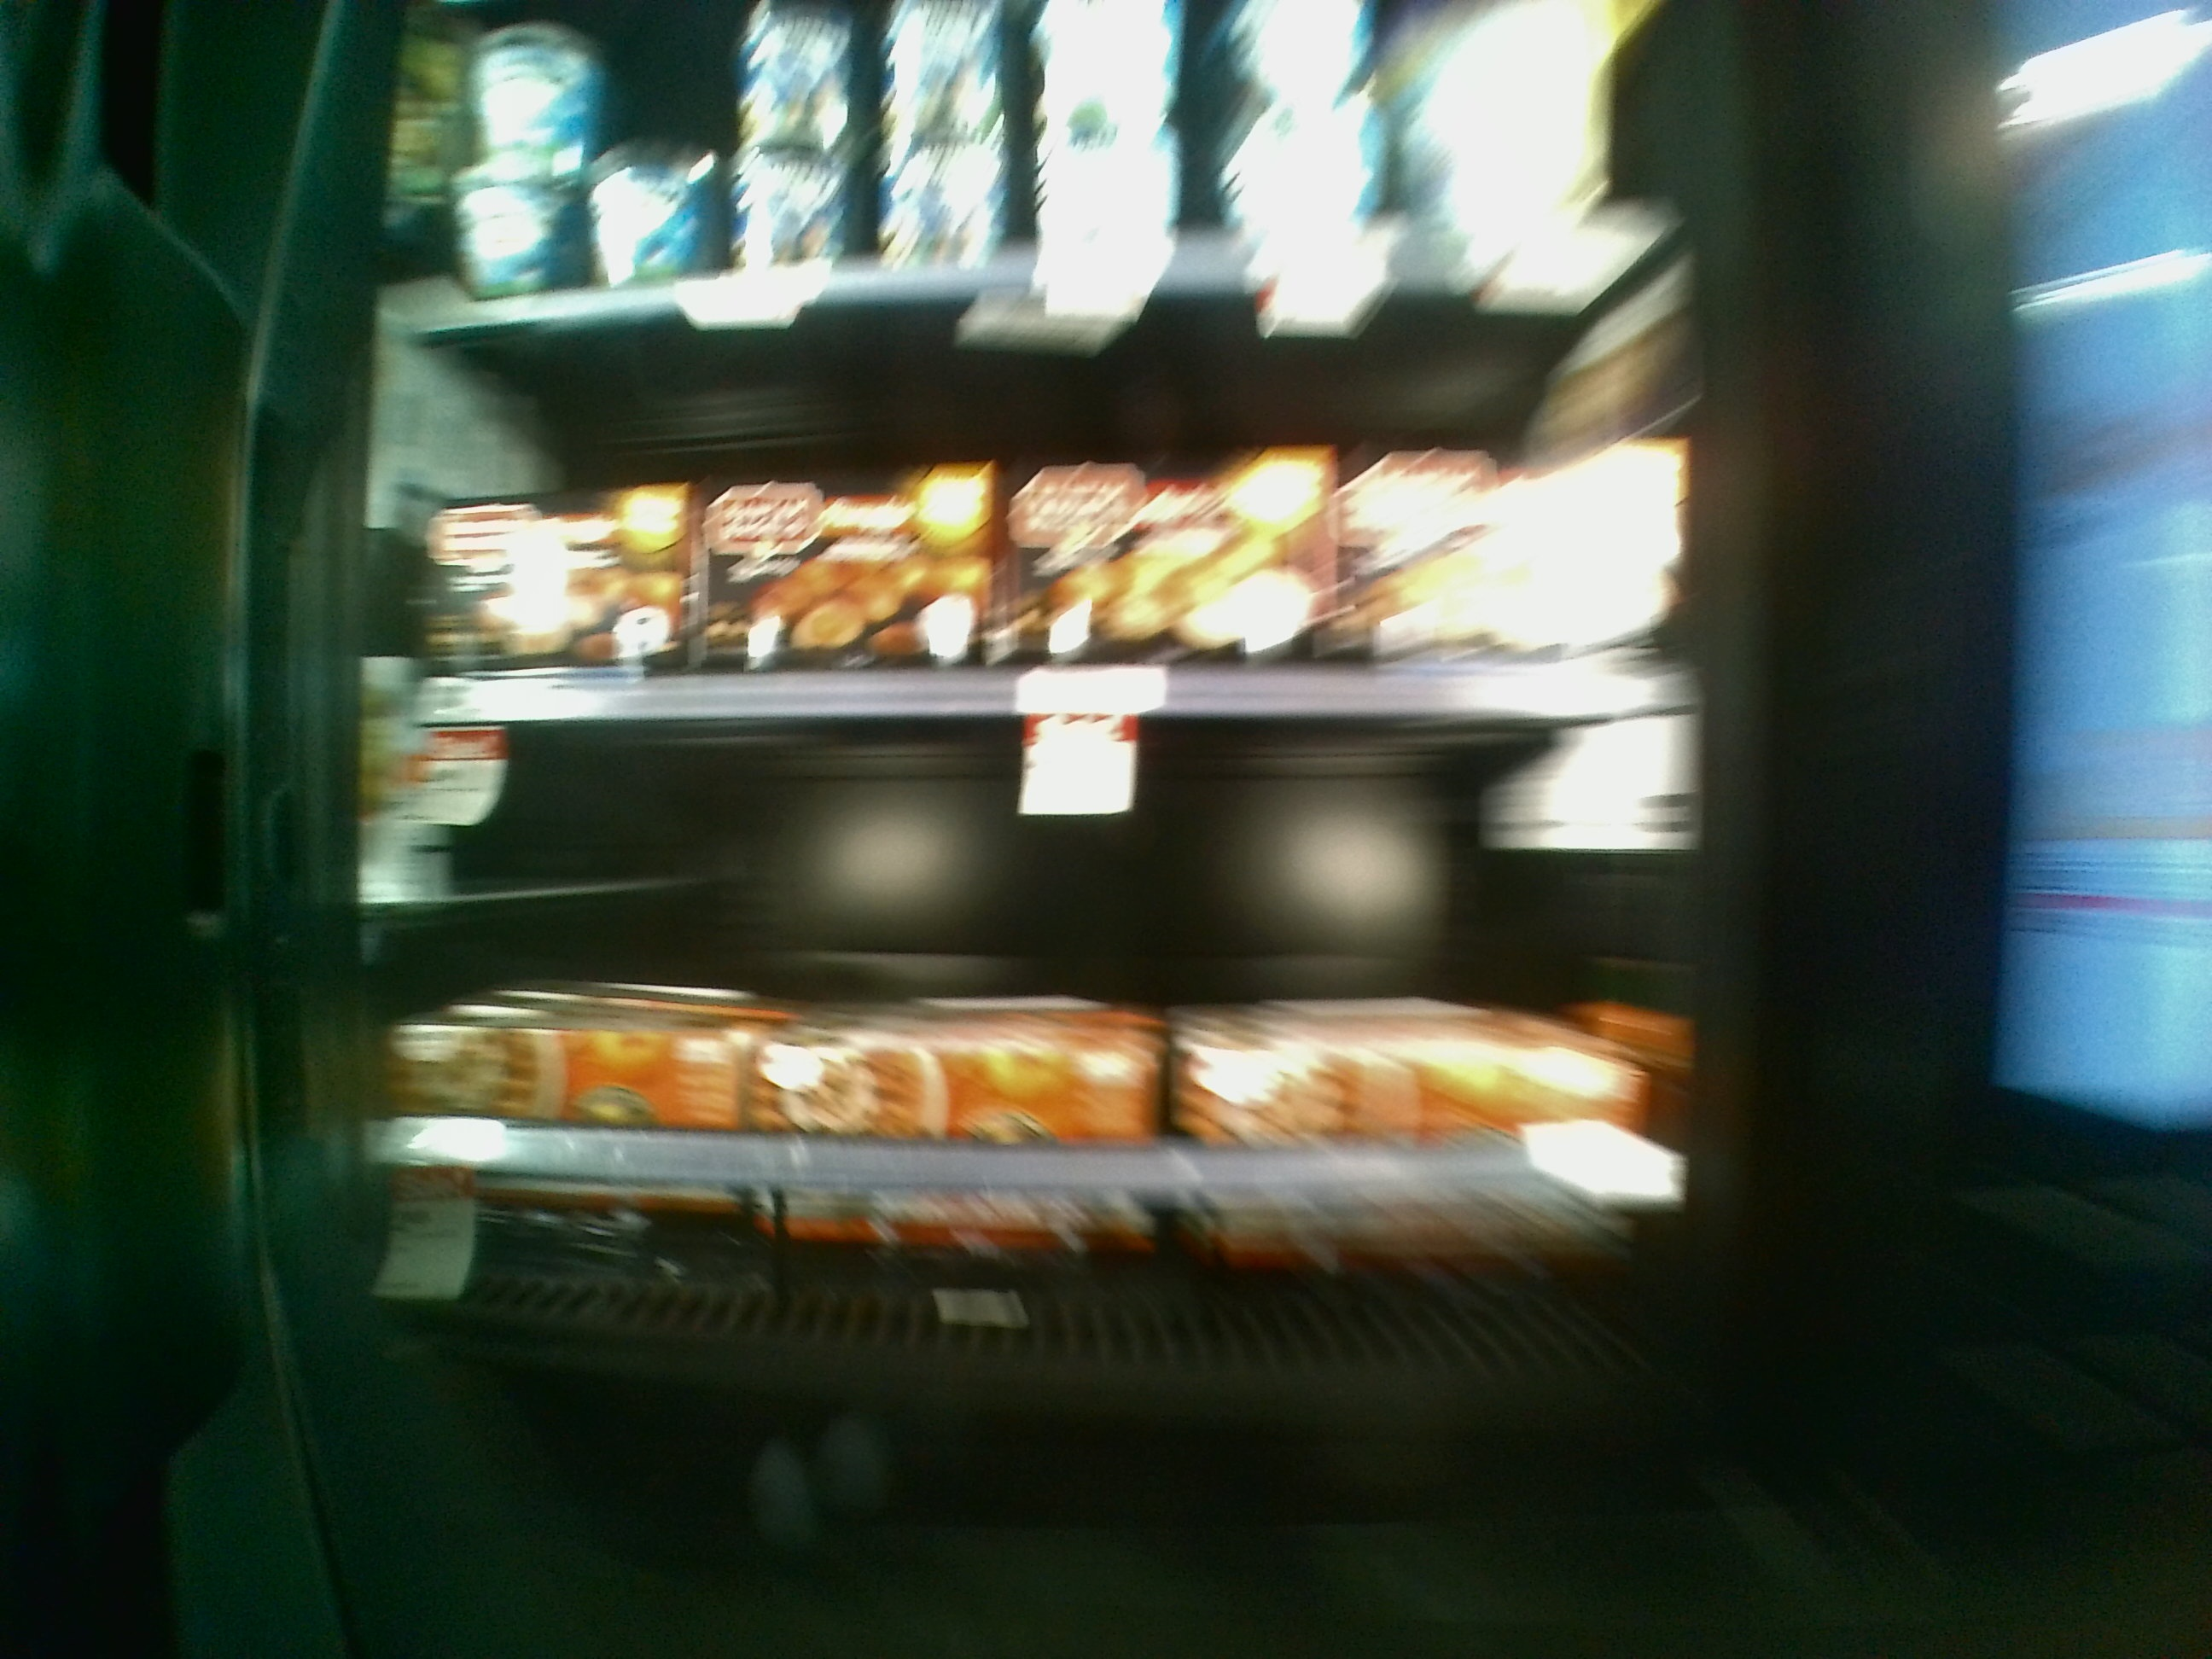shelf: (376, 683, 1669, 1202), (423, 279, 1667, 704)
